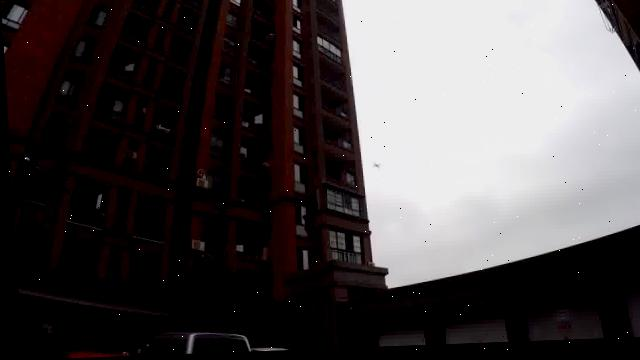drone: (361, 159, 388, 180)
